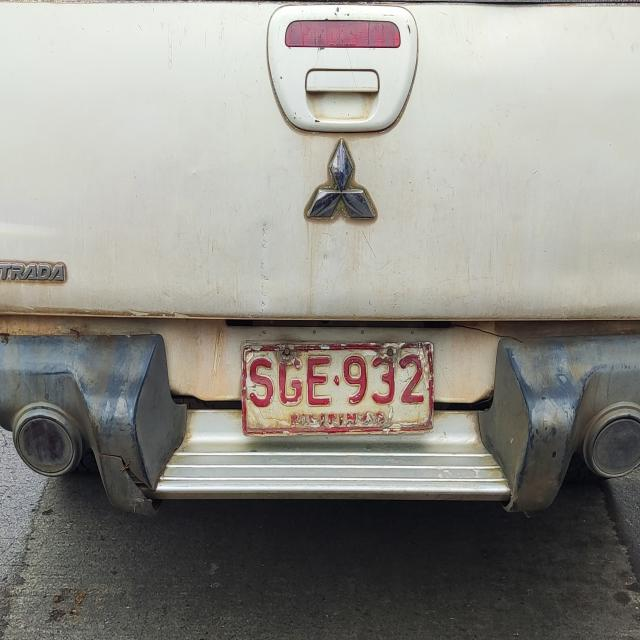plate: (237, 334, 439, 439)
